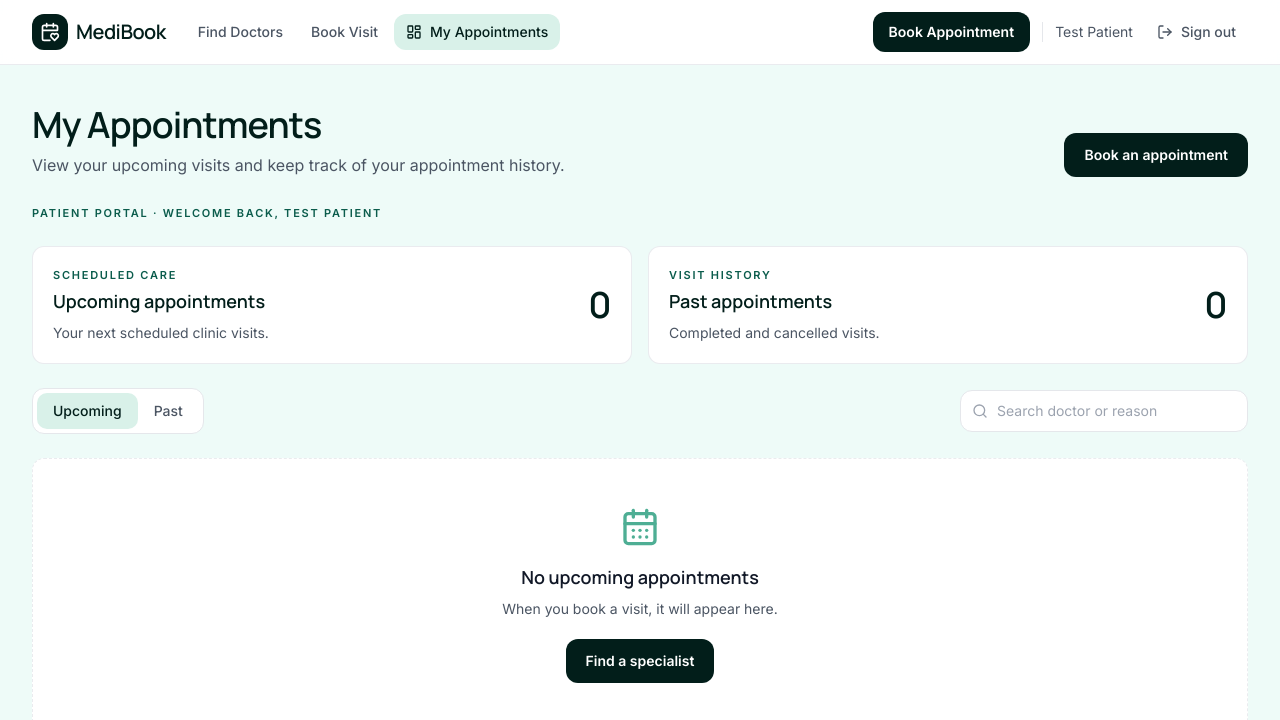
Test case: Authentication flows with the real provider and route guards › shows a sign-out failure without navigating away or losing the session
This screenshot has width=1280, height=720.
Expected: the heading "My Appointments" is shown, top-left (32, 100), bottom-right (322, 149)
What coordinates should you click on to do the following:
click the button "Sign out"
I would click on:
 (1196, 32)
Its box is top-left (1145, 14), bottom-right (1248, 50).
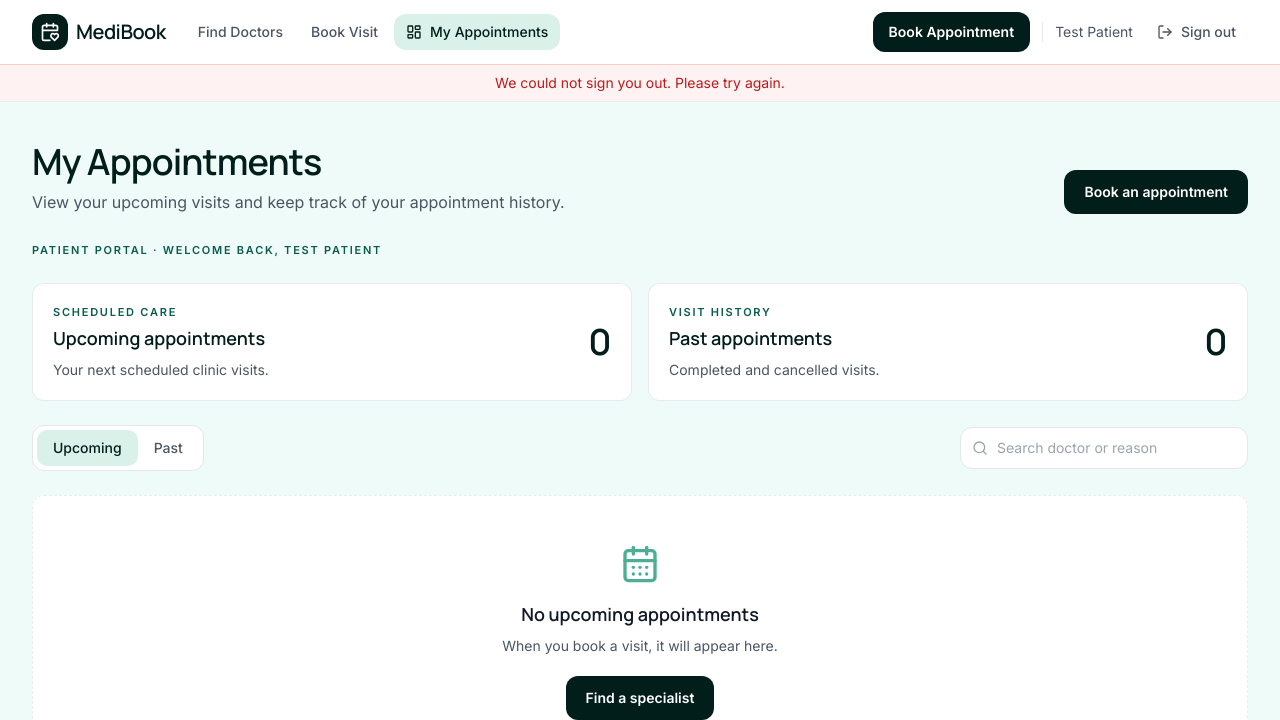
Expected: the heading "My Appointments" is shown, top-left (32, 137), bottom-right (322, 186)
Expected: the message shows "We could not sign you out", top-left (495, 74), bottom-right (785, 91)
